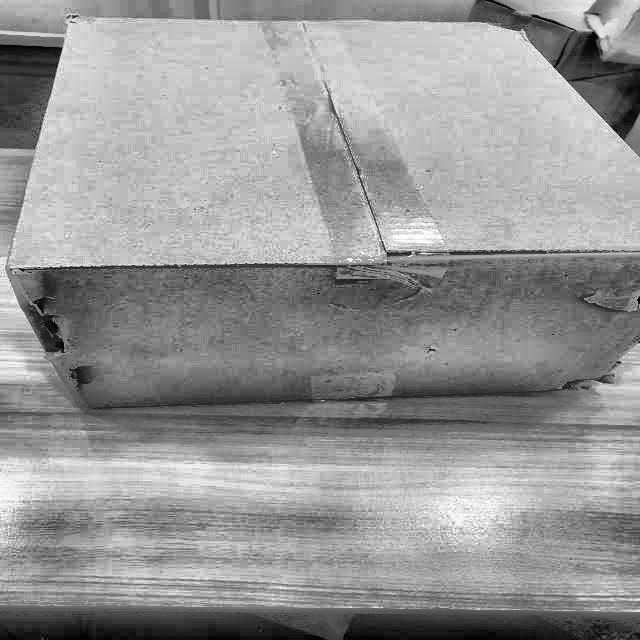box: (0, 7, 639, 424)
hole: (19, 302, 99, 386), (558, 322, 640, 398)
